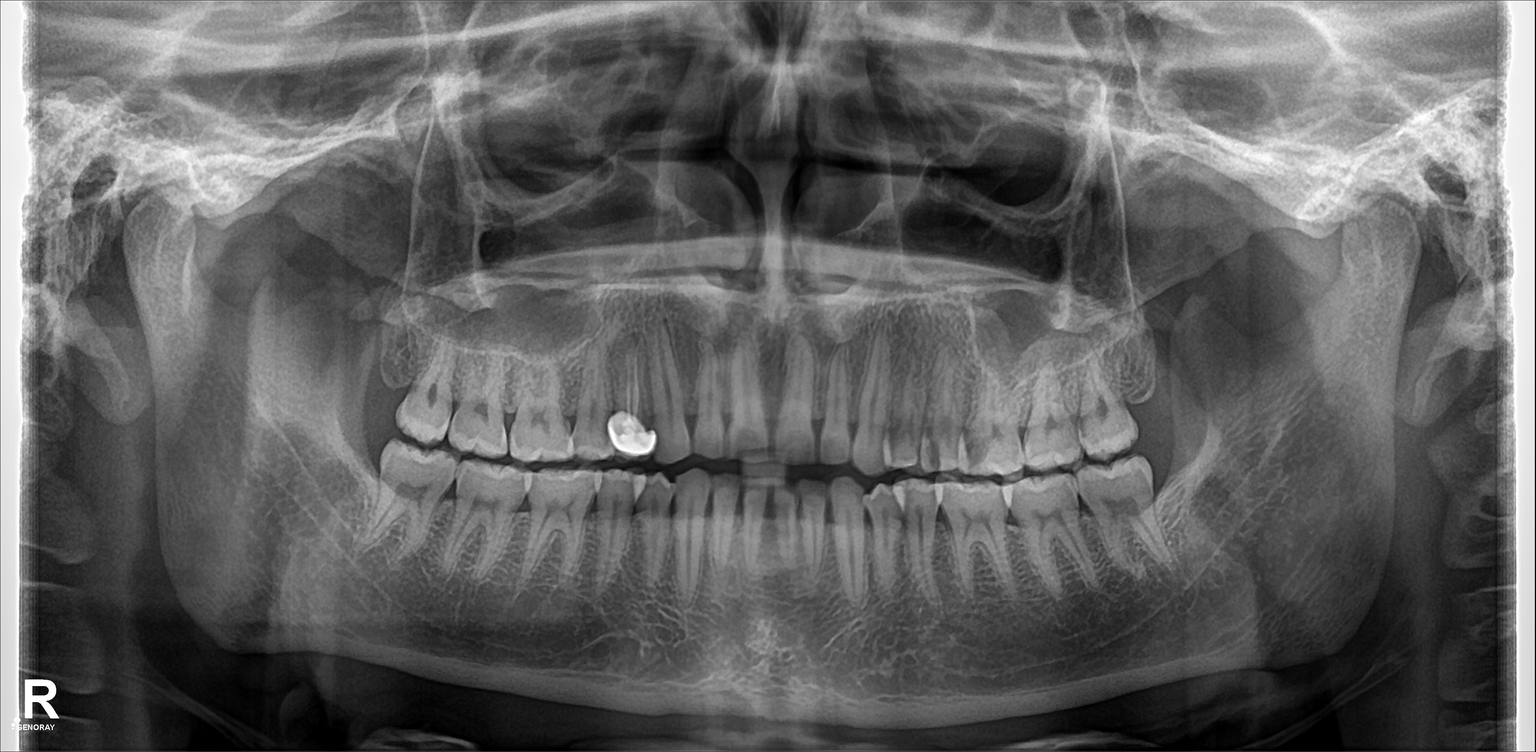Endodontically Treated Tooth: (616, 337, 661, 456)
Missing Tooth: (358, 324, 404, 436), (1132, 335, 1175, 444)
